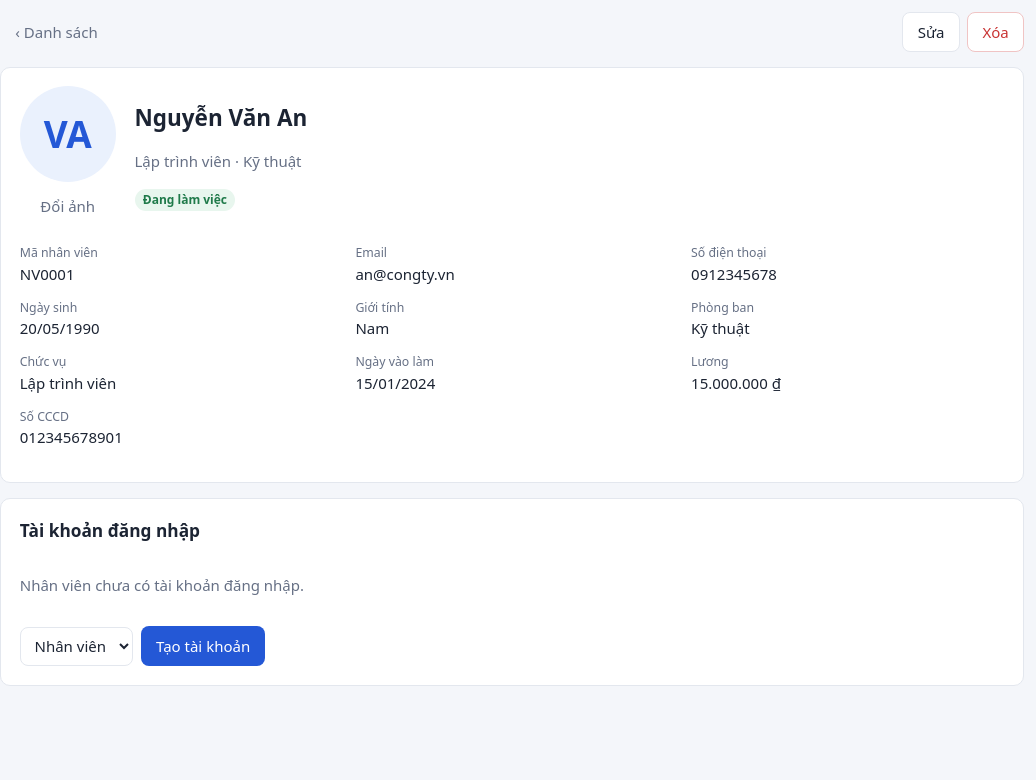
Scenario: EmployeeDetailPage › creates a login account with the chosen role
This screenshot has width=1036, height=780.
Expected: the text "Nhân viên chưa có tài khoản đăng nhập." is shown, x1=20 y1=575 x2=304 y2=595
Select "HR" in the dropdown named "Vai trò" at (77, 646), box x1=20 y1=627 x2=133 y2=666
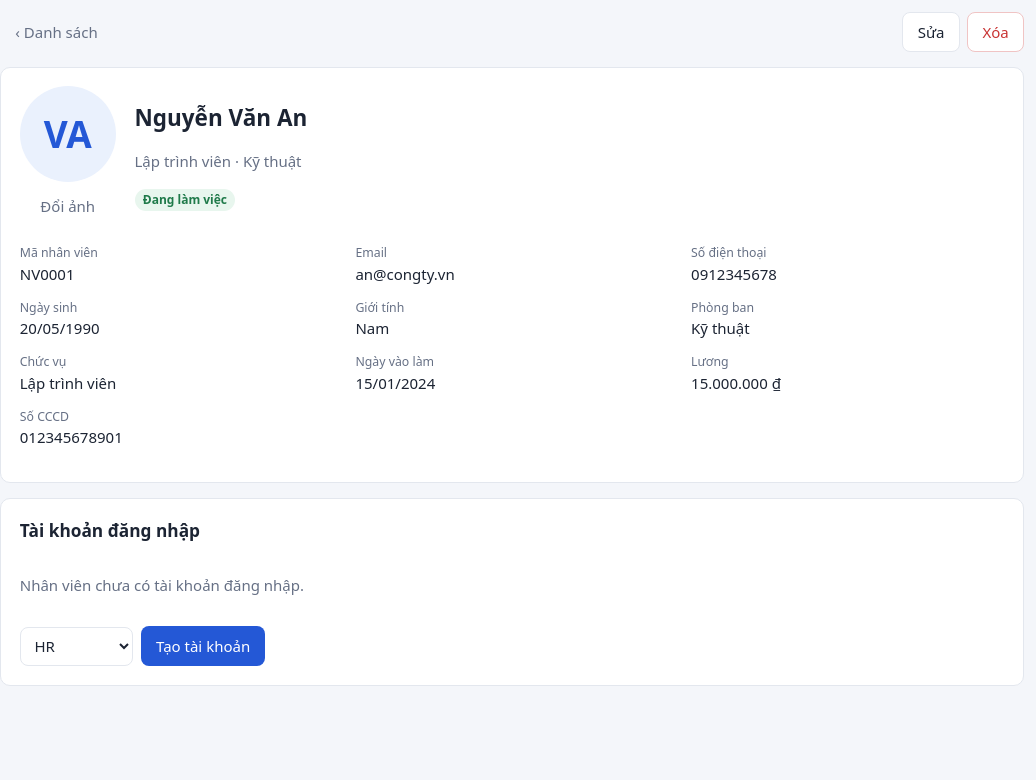
Click the button "Tạo tài khoản" at (203, 646), box x1=141 y1=626 x2=266 y2=666
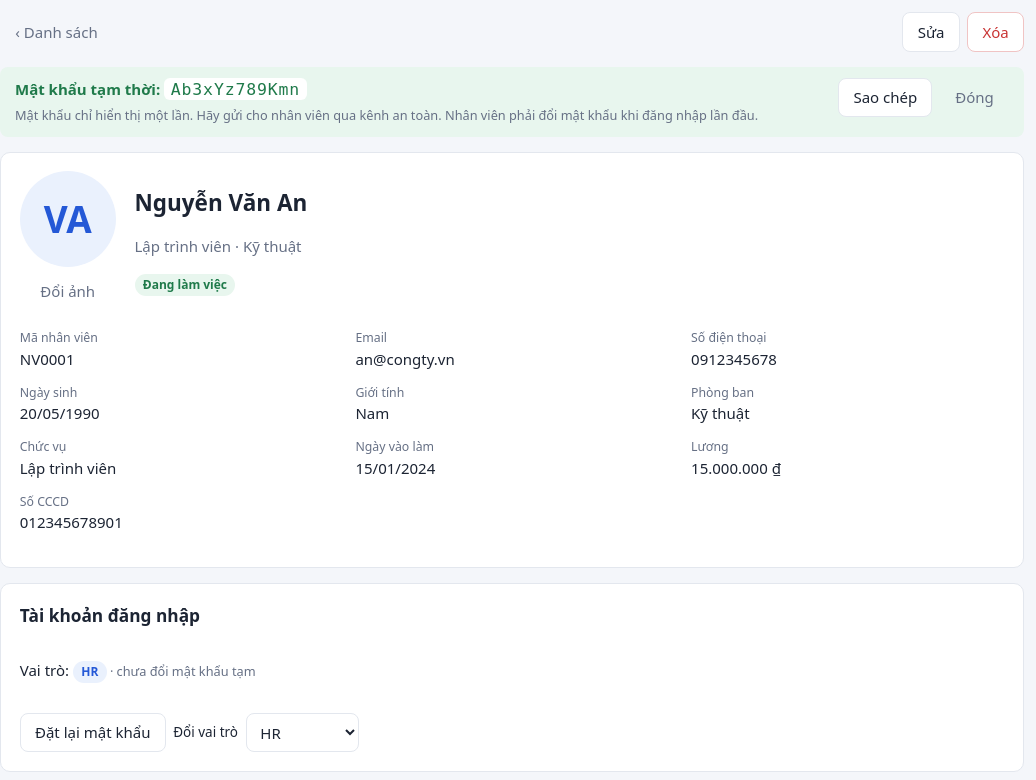
Expected: the text "Ab3xYz789Kmn" is shown, x1=164 y1=78 x2=307 y2=100
